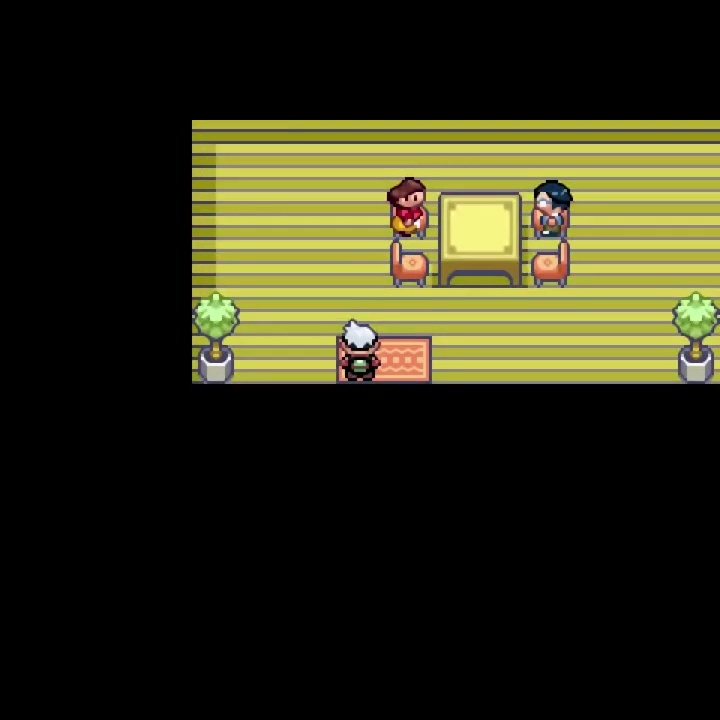agent: (338, 316, 383, 384)
exit: (335, 333, 435, 440)
npc: (384, 174, 430, 240), (529, 176, 575, 239)
